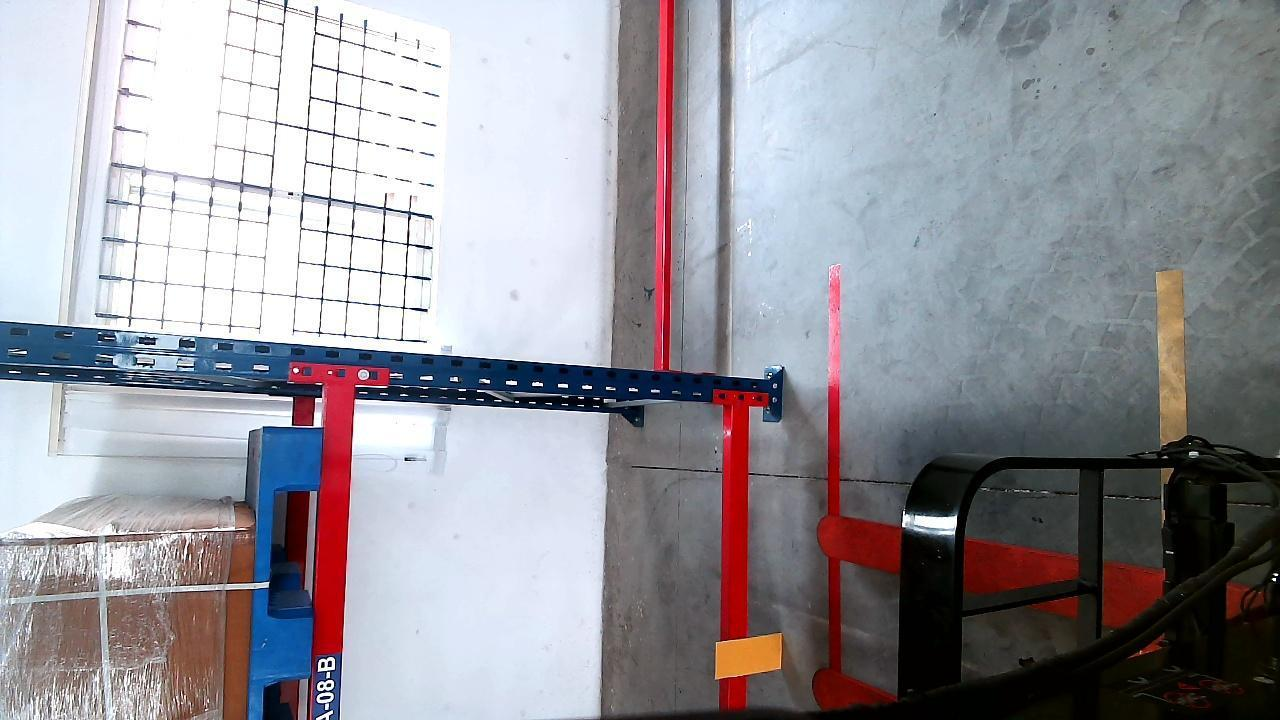h_rack: (312, 387, 357, 720), (721, 401, 753, 714)
orange_strip: (718, 632, 784, 678)
red_line: (827, 264, 847, 697)
small_pallet: (248, 423, 320, 720)
yellow_line: (1155, 262, 1185, 447)
